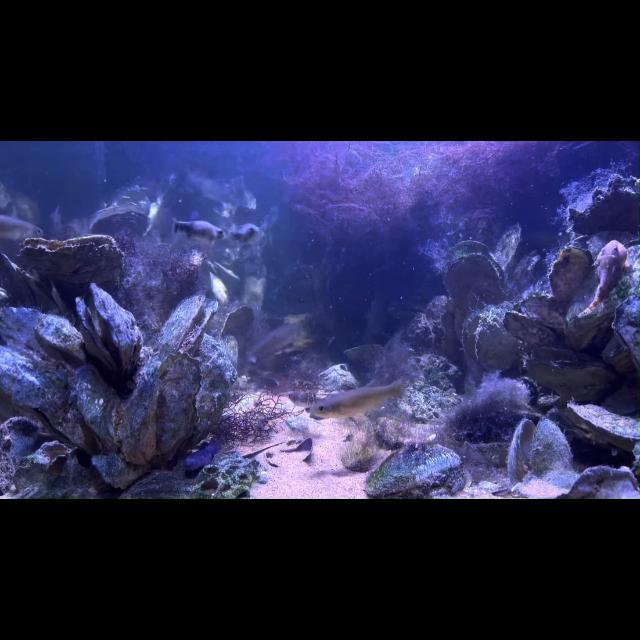Oyster-Closed: (564, 238, 640, 350), (526, 358, 620, 406), (72, 364, 122, 454), (195, 334, 238, 436), (120, 357, 160, 461), (157, 352, 201, 442), (566, 401, 640, 453), (0, 252, 60, 315), (0, 416, 48, 490), (548, 245, 594, 305), (502, 310, 558, 348), (496, 222, 524, 274)
Oyster-Open: (0, 345, 98, 454), (74, 282, 142, 380), (506, 418, 574, 490), (19, 234, 123, 274), (156, 294, 220, 356), (441, 238, 492, 306), (34, 313, 86, 367), (88, 202, 150, 238)
